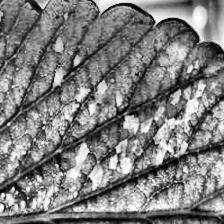Angular Leafspot: (0, 31, 224, 224)
